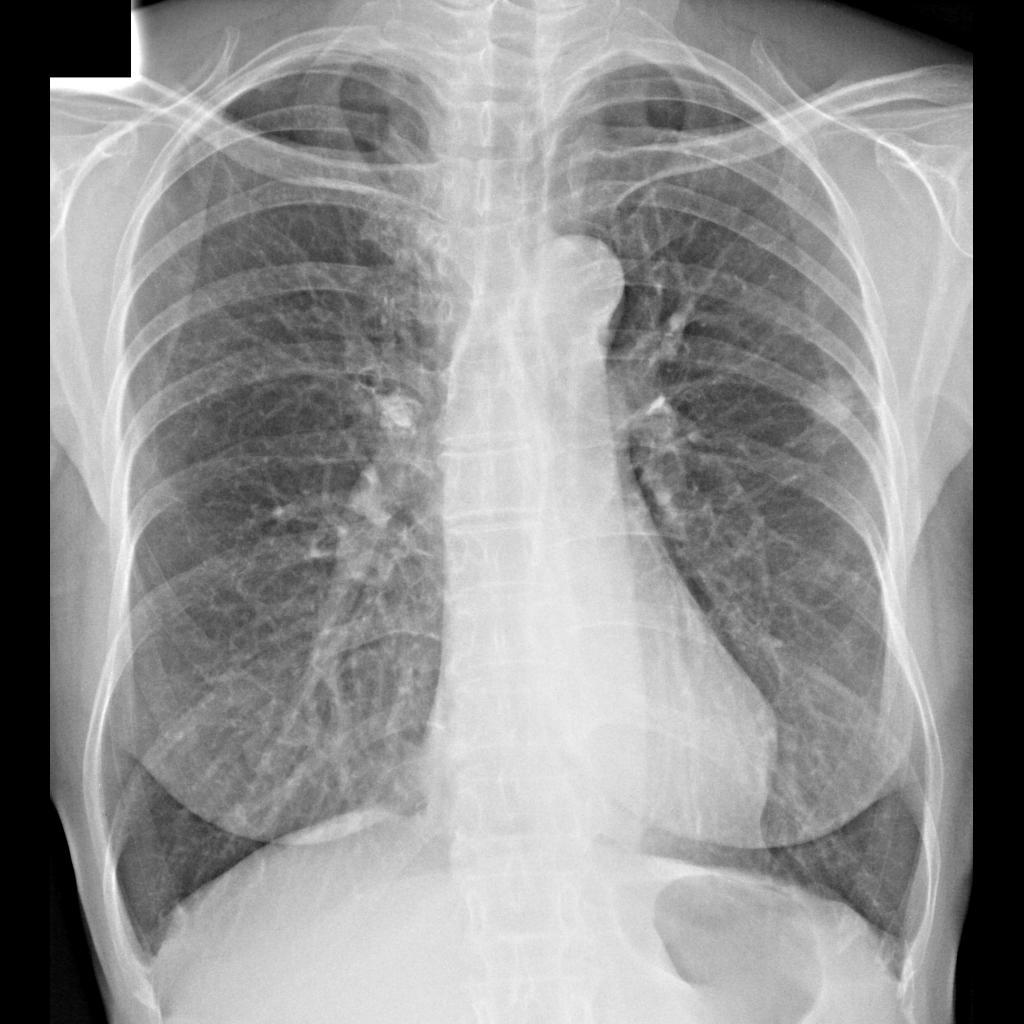Nodule: (799, 374, 859, 434)
